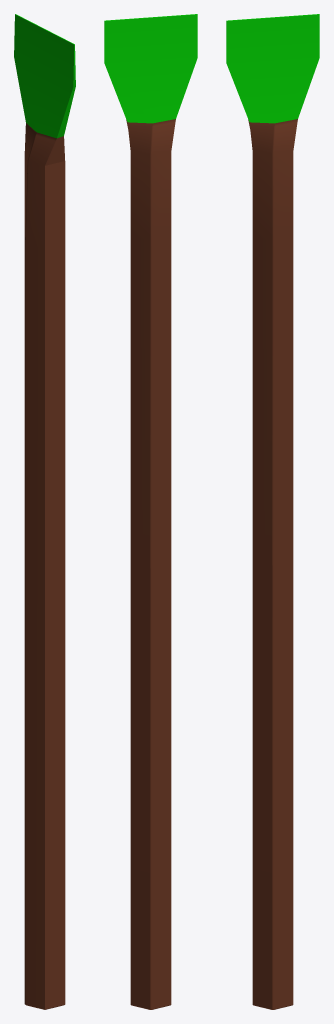
File: ChiselLP.fbx
The picture shows the model from 3 angles, left to right: view 1: azimuth 90°, elevation 25°; view 2: azimuth 150°, elevation 25°; view 3: azimuth 330°, elevation 25°; orthographic projection.
Parts seen in each view (by area): view 1: pCylinder2; view 2: pCylinder2; view 3: pCylinder2.
Boxes of the visible parts, bbox=[...] form: pCylinder2: bbox=[14, 14, 75, 1009]; pCylinder2: bbox=[104, 14, 197, 1009]; pCylinder2: bbox=[226, 14, 319, 1009].
Bounding box in the file's own units: 0.7943 × 11.5 × 0.6649.
